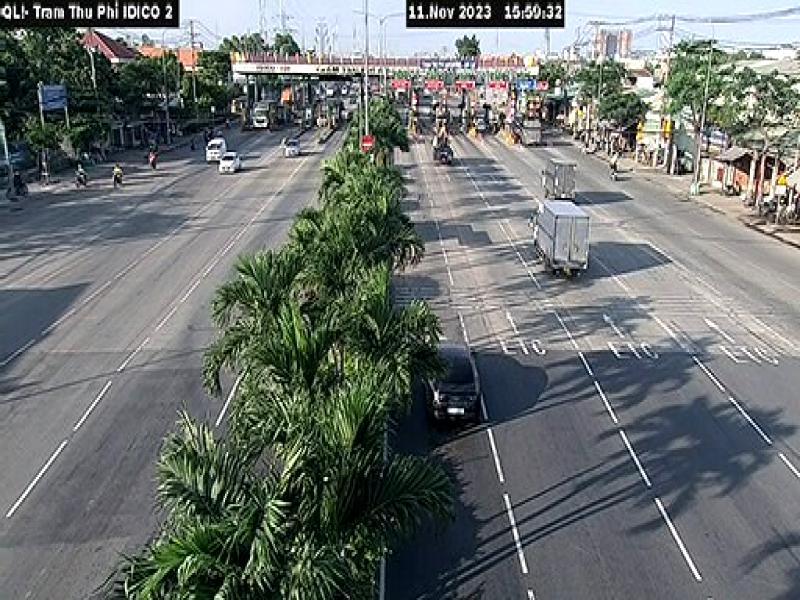truck: (529, 204, 592, 276)
